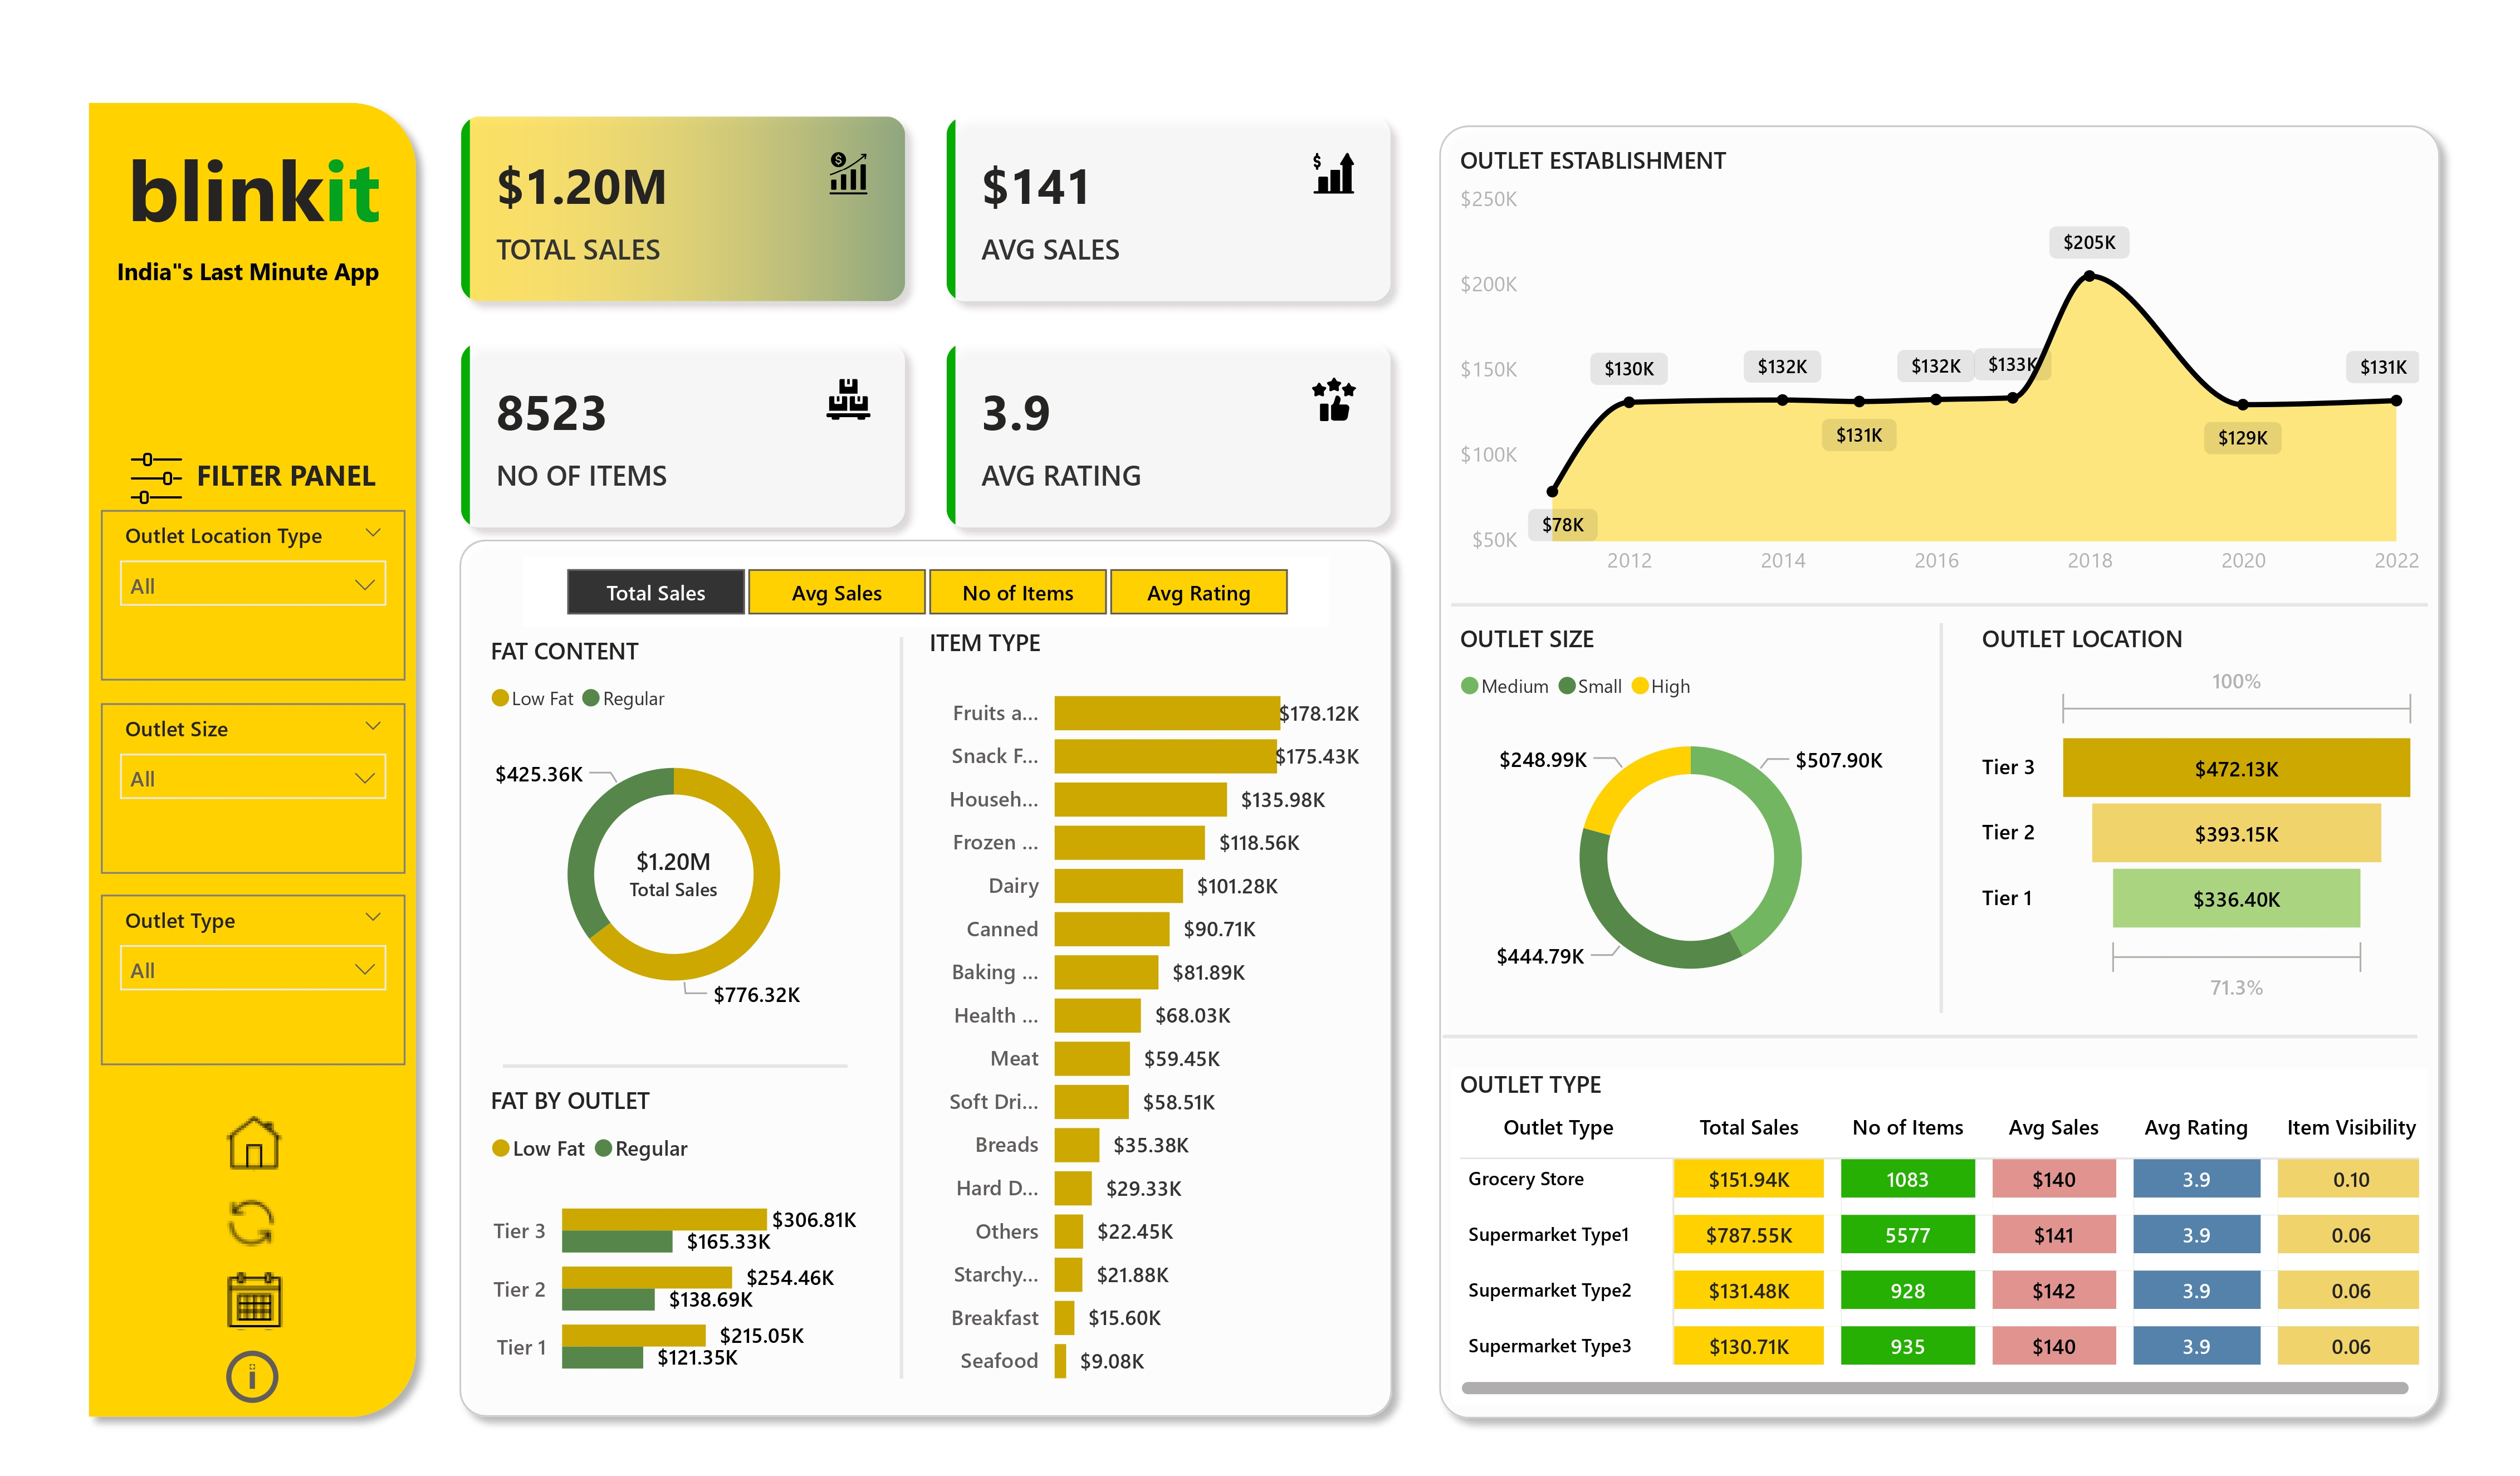

Layout of this report page (visuals, bound fields, positions):
{"tool":"powerbi","page":{"name":"Home","canvas":[1400,800],"ordinal":0},"visuals":[{"type":"shape","box":[18.4,25.7,205.8,773.5],"z":0},{"type":"textbox","box":[34.9,45.9,174.5,95.5],"z":1000},{"type":"textbox","box":[34.9,117.6,167.2,47.8],"z":2000},{"type":"cardVisual","fields":{"Data":["BlinkIT Grocery Data.Total Sales","BlinkIT Grocery Data.Avg Sales","BlinkIT Grocery Data.No of Items","BlinkIT Grocery Data.Avg Rating"]},"box":[223.7,26.1,569.8,269.4],"z":3000},{"type":"shape","box":[231.5,277.4,553,521.8],"z":4000},{"type":"donutChart","title":"FAT CONTENT","fields":{"Y":["BlinkIT Grocery Data.Total Sales"],"Category":["BlinkIT Grocery Data.Item Fat Content"]},"box":[253.1,341.2,220.4,230.2],"z":5000},{"type":"slicer","fields":{"Values":["Metrics.Metrics"]},"box":[275.6,295.8,464.8,40.4],"z":6000},{"type":"cardVisual","fields":{"Data":["BlinkIT Grocery Data.Total Sales"]},"box":[301.3,444.6,124.9,66.1],"z":7000},{"type":"clusteredBarChart","title":"FAT BY OUTLET","fields":{"Y":["BlinkIT Grocery Data.Total Sales"],"Category":["BlinkIT Grocery Data.Outlet Location Type"],"Series":["BlinkIT Grocery Data.Item Fat Content"]},"box":[253.1,599.2,220.4,182.9],"z":8000},{"type":"shape","box":[264.6,571.4,198.4,34.9],"z":9000},{"type":"shape","box":[452,341.7,84.5,426.2],"z":10000},{"type":"barChart","title":"ITEM TYPE","fields":{"Y":["BlinkIT Grocery Data.Total Sales"],"Category":["BlinkIT Grocery Data.Item Type"]},"box":[505.2,336.2,257.2,446.5],"z":11000},{"type":"shape","box":[793.7,39.4,593.4,760.6],"z":12000},{"type":"lineChart","title":"OUTLET ESTABLISHMENT","fields":{"Y":["BlinkIT Grocery Data.Total Sales"],"Category":["BlinkIT Grocery Data.Outlet Establishment Year"]},"box":[810.2,58.8,560.4,257.2],"z":13000},{"type":"shape","box":[810.2,295.8,560.4,55.1],"z":14000},{"type":"donutChart","title":"OUTLET SIZE","fields":{"Y":["BlinkIT Grocery Data.Total Sales"],"Category":["BlinkIT Grocery Data.Outlet Size"]},"box":[810.2,334.2,275,225],"z":15000},{"type":"shape","box":[1049.1,334.2,84.5,224.1],"z":16000},{"type":"funnel","title":"OUTLET LOCATION","fields":{"Y":["BlinkIT Grocery Data.Total Sales"],"Category":["BlinkIT Grocery Data.Outlet Location Type"]},"box":[1109.7,334.2,260.9,224.1],"z":17000},{"type":"shape","box":[804.7,543.8,560.4,55.1],"z":18000},{"type":"pivotTable","title":"OUTLET TYPE","fields":{"Rows":["BlinkIT Grocery Data.Outlet Type"],"Values":["BlinkIT Grocery Data.Total Sales","BlinkIT Grocery Data.No of Items","BlinkIT Grocery Data.Avg Sales","BlinkIT Grocery Data.Avg Rating","Avg(BlinkIT Grocery Data.Item Visibility)"]},"box":[810.2,589.8,560.4,192.9],"z":19000},{"type":"slicer","fields":{"Values":["BlinkIT Grocery Data.Outlet Location Type"]},"box":[34.3,269.4,174.7,98],"z":20000},{"type":"slicer","fields":{"Values":["BlinkIT Grocery Data.Outlet Type"]},"box":[34.3,489.8,174.7,98],"z":21000},{"type":"slicer","fields":{"Values":["BlinkIT Grocery Data.Outlet Size"]},"box":[34.3,380.4,174.7,98],"z":22000},{"type":"textbox","box":[84.3,233.3,126.5,43.7],"z":23000},{"type":"actionButton","box":[100.9,746.7,45.2,40.6],"z":23002},{"type":"image","box":[34.6,230.3,61.7,42.2],"z":23003},{"type":"actionButton","box":[102.4,703,45.2,40.6],"z":23004},{"type":"actionButton","box":[100.9,659.4,45.2,39.1],"z":23005},{"type":"actionButton","box":[102.4,612.7,39.1,40.6],"z":23006}]}

Visuals, with their boxes in screenshot pixels (x1, y1, x2, y2):
shape: <region>74, 86, 432, 1433</region>
textbox: <region>102, 121, 406, 288</region>
textbox: <region>102, 246, 394, 330</region>
cardVisual - BlinkIT Grocery Data.Total Sales x BlinkIT Grocery Data.Avg Sales: <region>431, 87, 1423, 556</region>
shape: <region>444, 525, 1407, 1433</region>
"FAT CONTENT" donutChart: <region>482, 636, 866, 1037</region>
slicer - Metrics.Metrics: <region>521, 556, 1330, 627</region>
cardVisual - BlinkIT Grocery Data.Total Sales: <region>566, 815, 784, 931</region>
"FAT BY OUTLET" clusteredBarChart: <region>482, 1085, 866, 1403</region>
shape: <region>502, 1037, 848, 1097</region>
shape: <region>829, 637, 976, 1379</region>
"ITEM TYPE" barChart: <region>921, 627, 1369, 1404</region>
shape: <region>1423, 110, 2456, 1434</region>
"OUTLET ESTABLISHMENT" lineChart: <region>1452, 144, 2427, 592</region>
shape: <region>1452, 556, 2427, 653</region>
"OUTLET SIZE" donutChart: <region>1452, 623, 1930, 1015</region>
shape: <region>1867, 623, 2014, 1014</region>
"OUTLET LOCATION" funnel: <region>1973, 623, 2427, 1014</region>
shape: <region>1442, 988, 2418, 1084</region>
"OUTLET TYPE" pivotTable: <region>1452, 1068, 2427, 1404</region>
slicer - BlinkIT Grocery Data.Outlet Location Type: <region>101, 511, 405, 681</region>
slicer - BlinkIT Grocery Data.Outlet Type: <region>101, 895, 405, 1065</region>
slicer - BlinkIT Grocery Data.Outlet Size: <region>101, 704, 405, 874</region>
textbox: <region>188, 448, 409, 524</region>
actionButton: <region>217, 1341, 296, 1412</region>
image: <region>102, 443, 209, 516</region>
actionButton: <region>220, 1265, 299, 1336</region>
actionButton: <region>217, 1190, 296, 1258</region>
actionButton: <region>220, 1108, 288, 1179</region>
